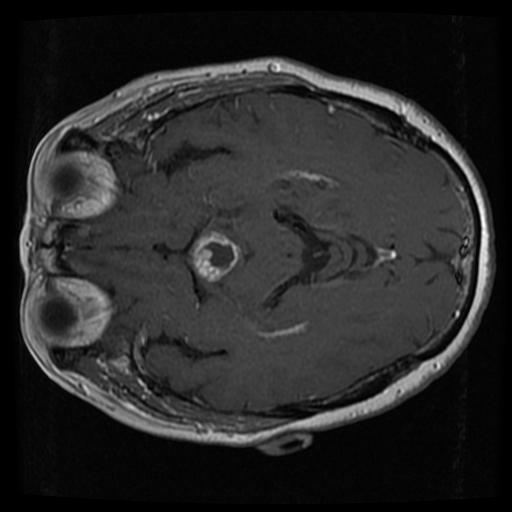pituitary tumour: (189, 231, 240, 282)
